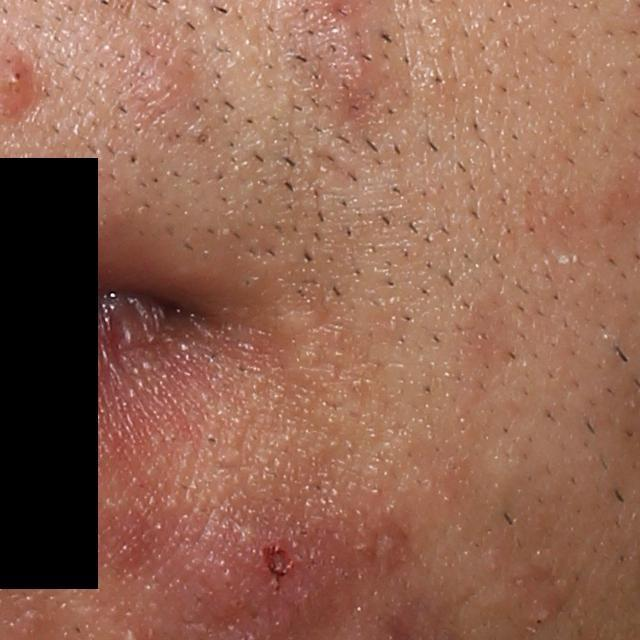atrophic_scar: (308, 147, 360, 183)
hypertrophic_scar: (276, 301, 321, 332)
papule: (312, 27, 388, 122), (116, 43, 194, 119), (350, 516, 410, 582), (520, 591, 554, 626)
